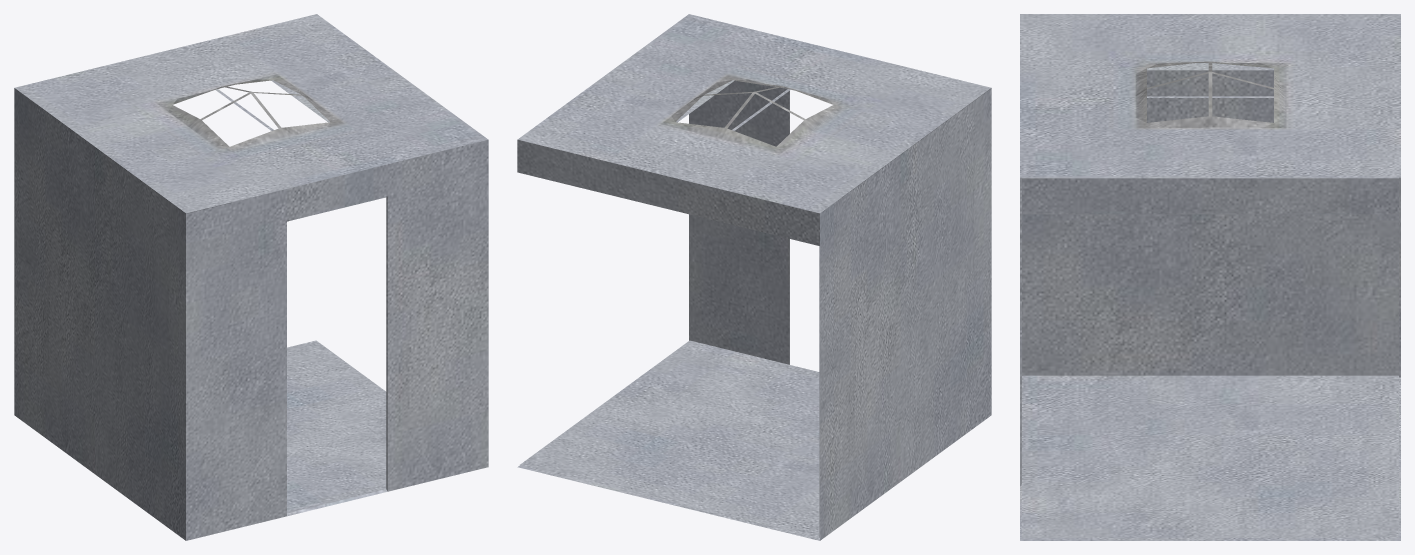
The model's file is Bathroom1.fbx.
The picture shows the model from 3 angles, left to right: view 1: azimuth 30°, elevation 25°; view 2: azimuth 150°, elevation 25°; view 3: azimuth 270°, elevation 25°; orthographic projection. The views are drawn at different scales.
Parts seen in each view (by area): view 1: Bathroom1; view 2: Bathroom1; view 3: Bathroom1.
Part boxes in pixels (left/top/right/bottom): Bathroom1: left=14, top=14, right=488, bottom=540; Bathroom1: left=517, top=14, right=991, bottom=540; Bathroom1: left=1020, top=14, right=1400, bottom=540.
Bounding box in the file's own units: 290 × 319 × 285.
Materials: 1 (1 with a texture image).
